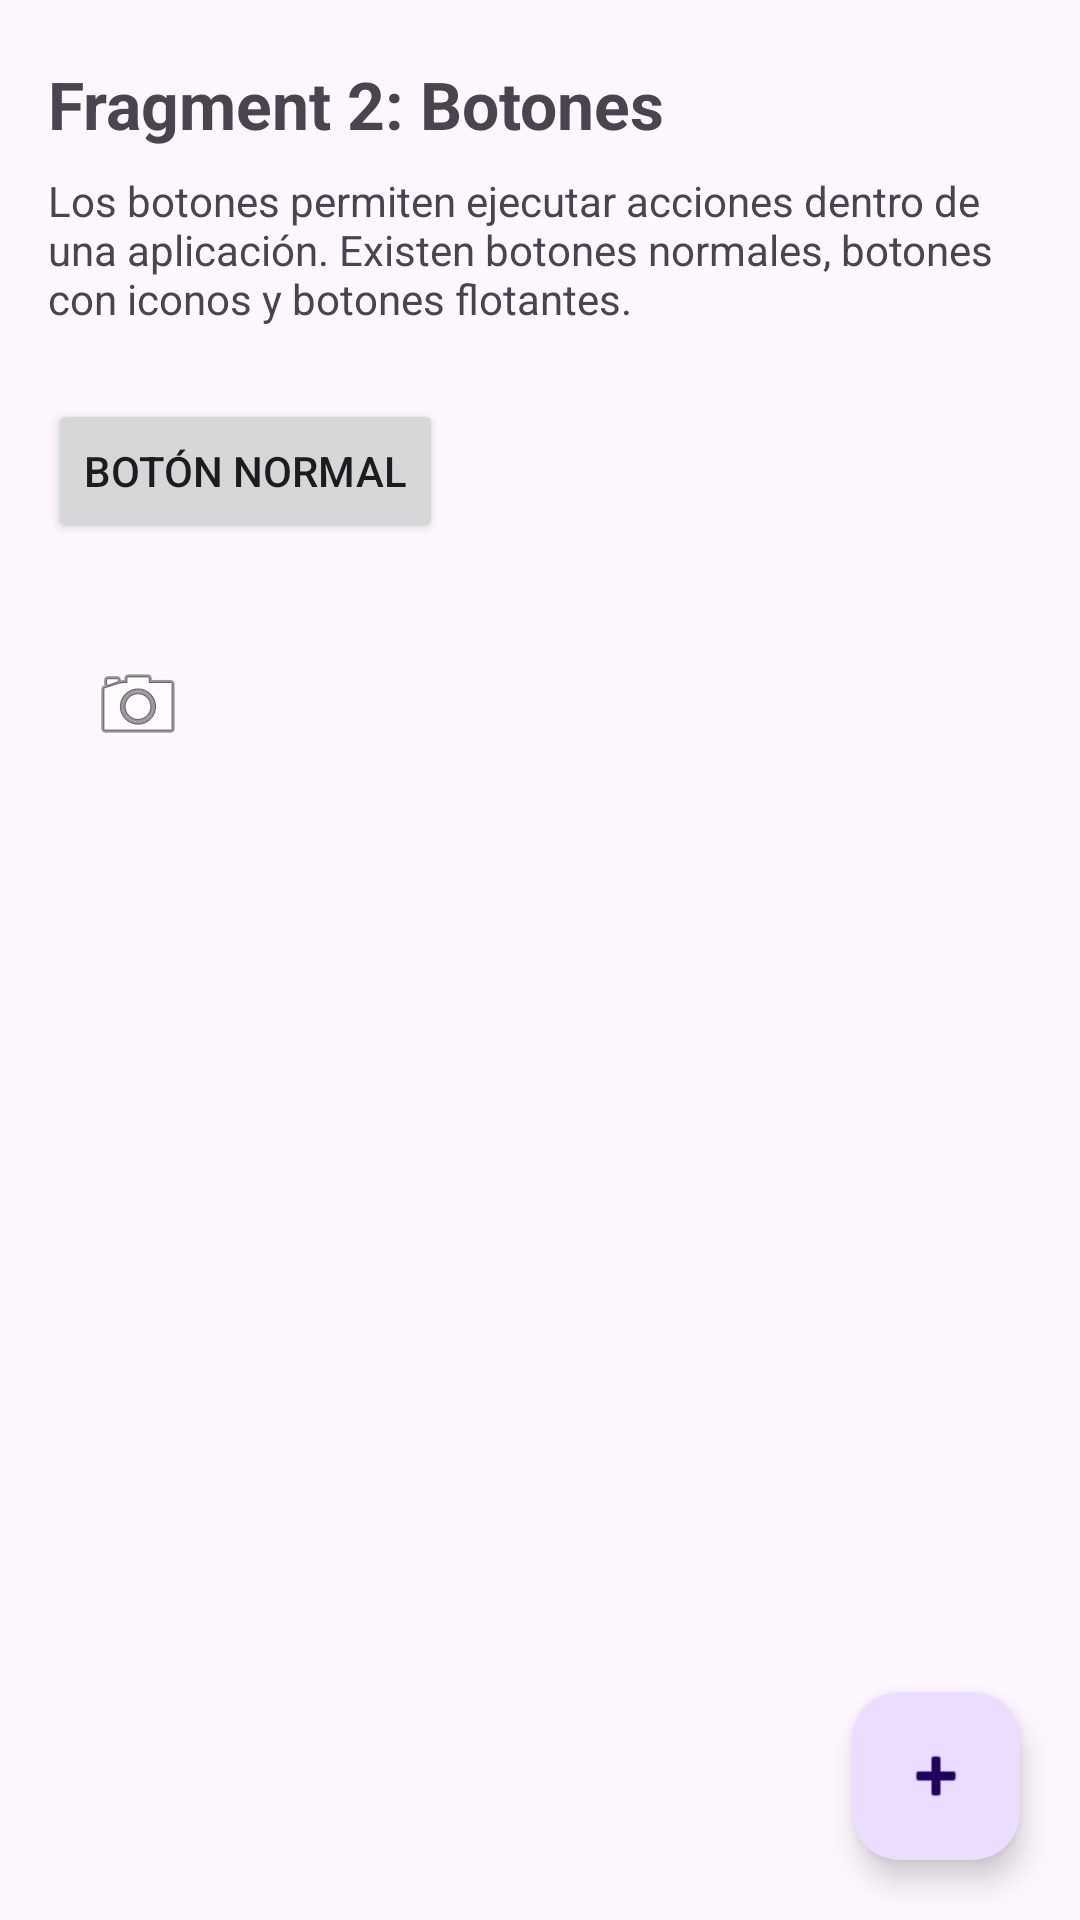

Icons on this 1080*1920 Android screen, each with the point to tap as point (x, y):
Botón con icono: point (138, 703)
Botón flotante: point (936, 1776)
